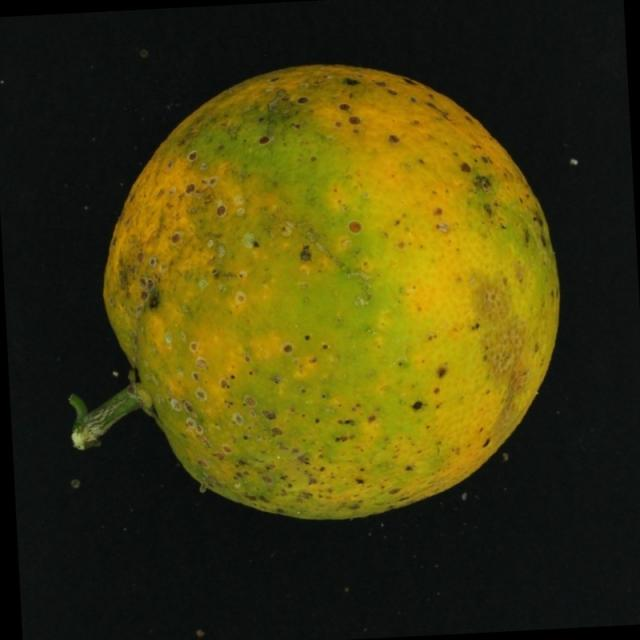grenning: (44, 56, 585, 552)
